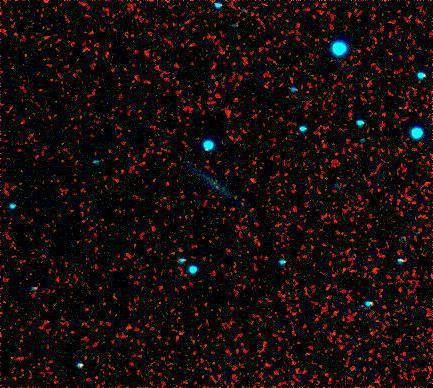star: (240, 164, 270, 194)
